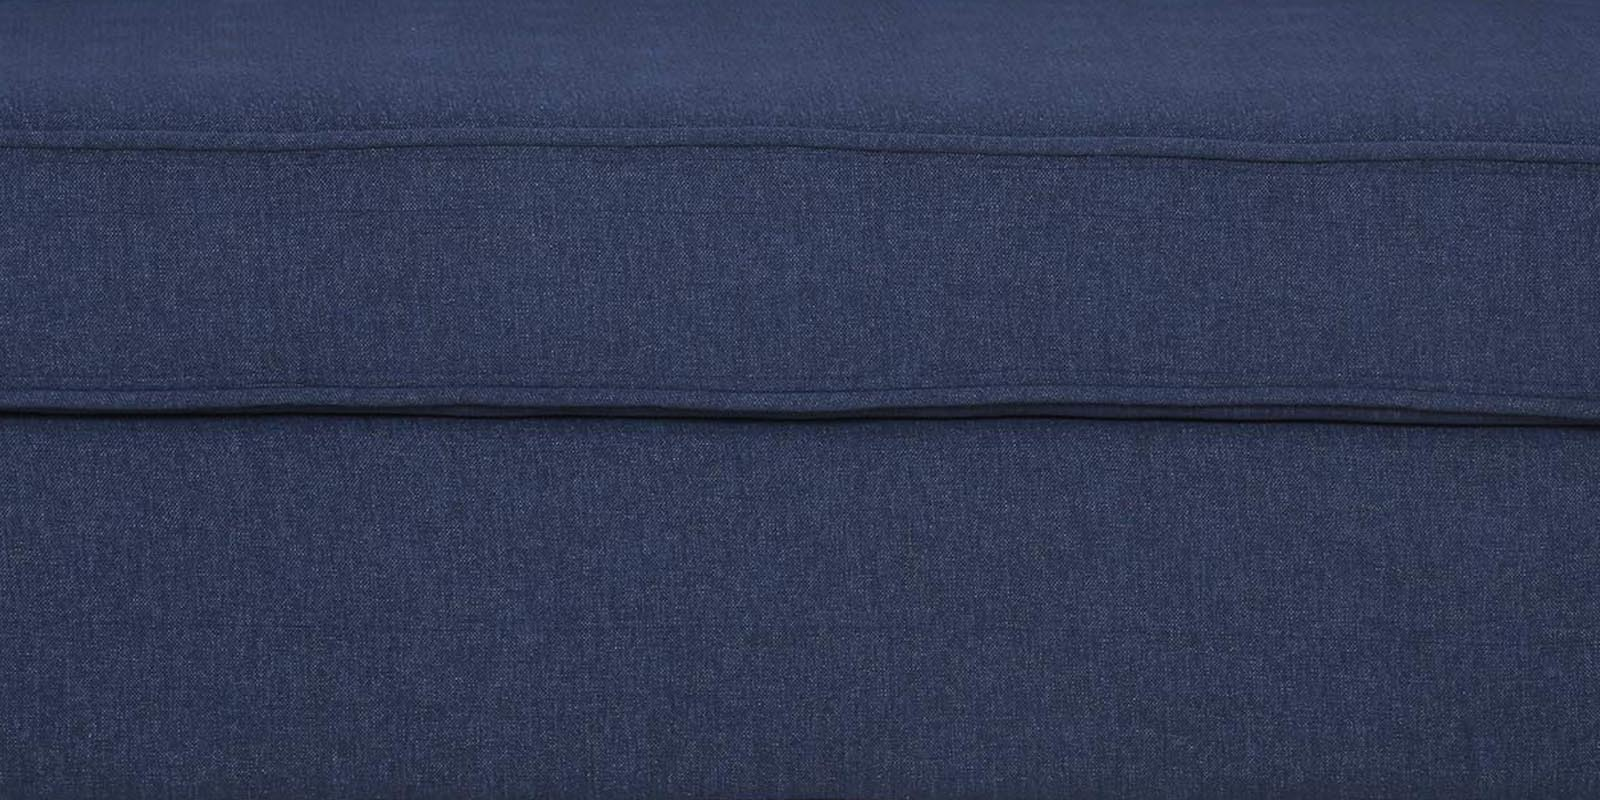Miranda Three Seater Sofa in Navy Blue Colour by CasaCraft: (1, 5, 1596, 800)
